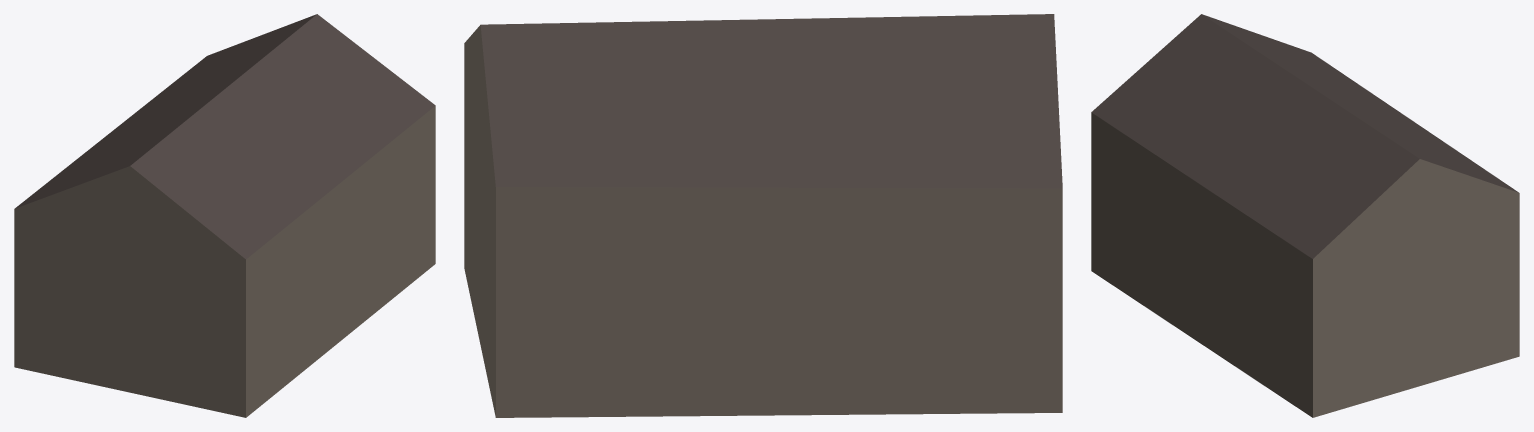
3 renders of one model, left to right at view 1: azimuth 30°, elevation 25°; view 2: azimuth 150°, elevation 25°; view 3: azimuth 270°, elevation 25°, orthographic. The views are drawn at different scales.
Visible parts, largest first — view 1: HP-w1512359812; view 2: HP-w1512359812; view 3: HP-w1512359812.
Boxes of the visible parts, <box> form: HP-w1512359812: <box>14,14,435,417</box>; HP-w1512359812: <box>464,14,1062,417</box>; HP-w1512359812: <box>1091,14,1519,417</box>.
Bounding box in the file's own units: 25.1 × 12.88 × 22.
